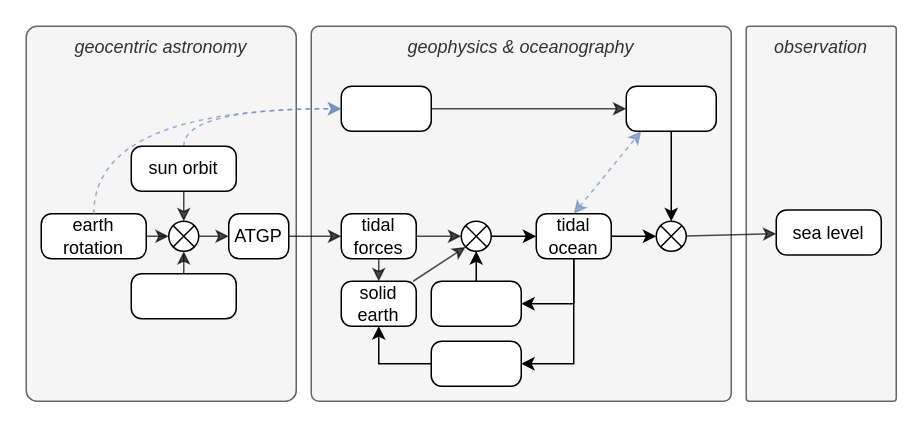
The diagram is 923 pixels wide and 428 high, and some of its shapes have lost their labels. Each missing label, with the centre of its shape:
"moon orbit" belongs at point (183, 295).
"non-tidal forces" belongs at point (385, 108).
"non-tidal ocean" belongs at point (670, 108).
"ocean loading" belongs at point (475, 363).
"self attraction" belongs at point (475, 303).
